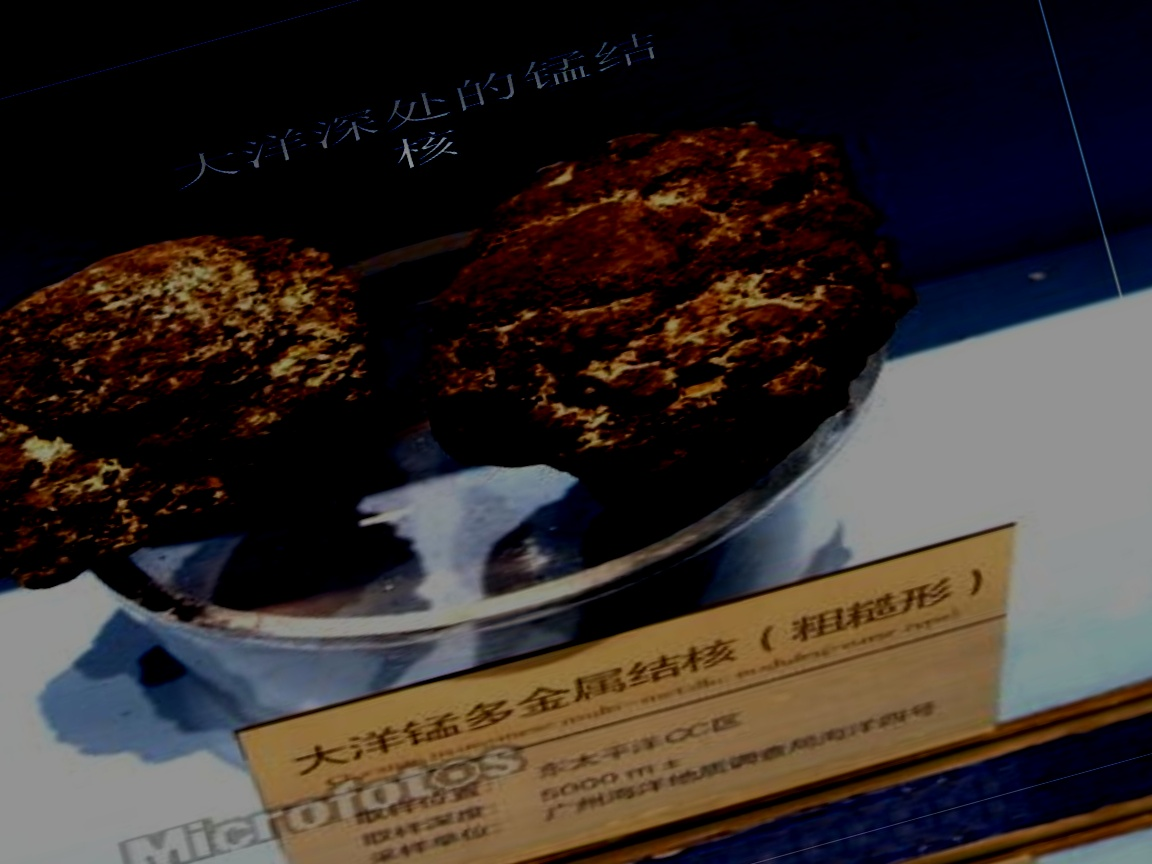halobolite: (1, 183, 432, 628), (438, 127, 900, 480)
